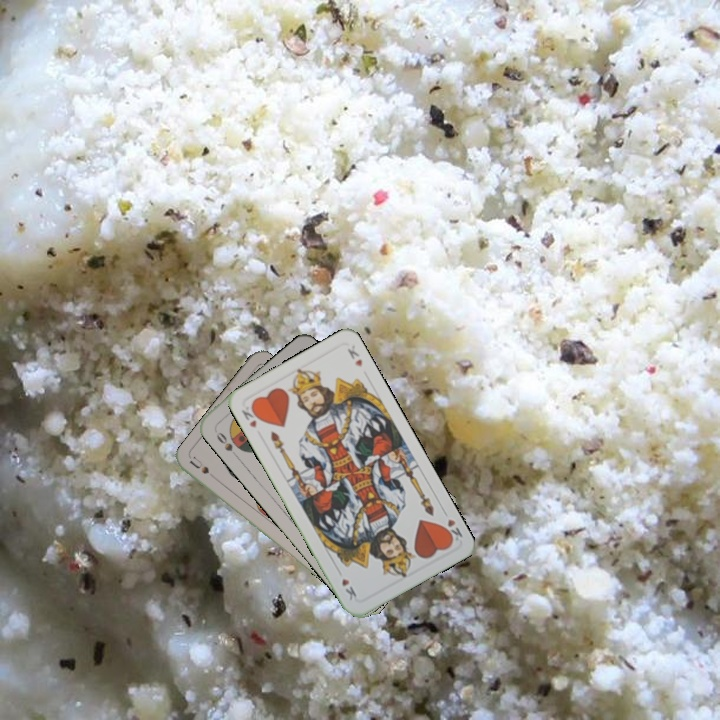HK: (438, 505, 465, 546), (237, 401, 263, 431)
SO: (211, 425, 240, 460)
SU: (186, 453, 222, 485)
